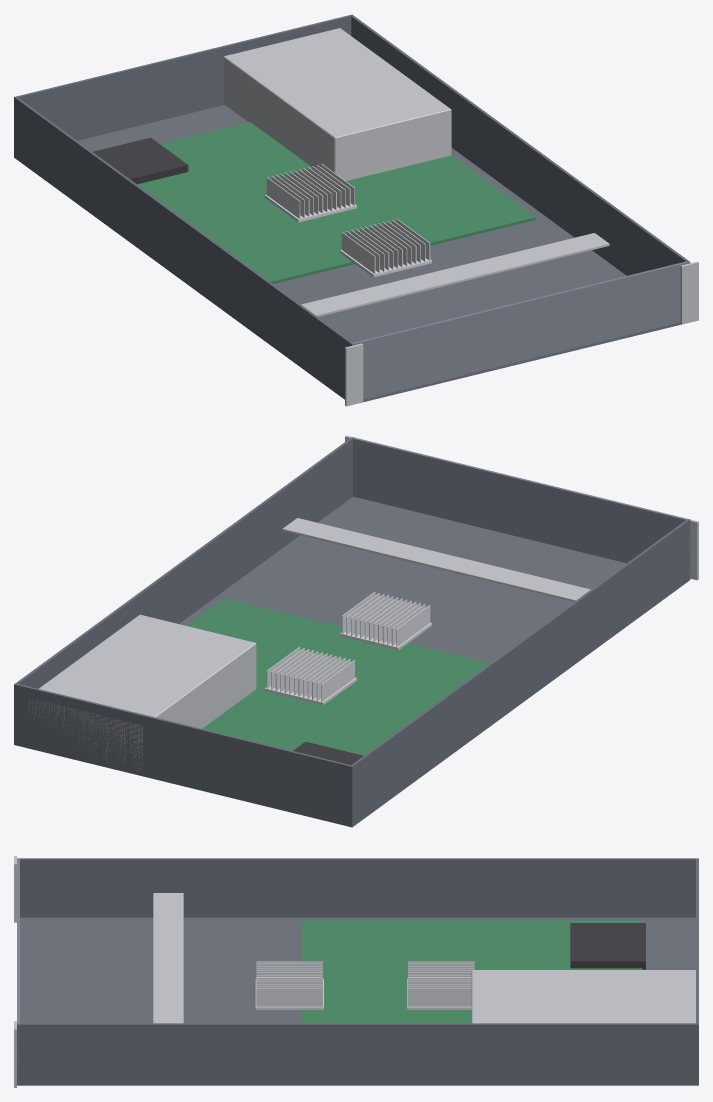
The model's file is open_srv2u.fbx.
3 renders of one model, top to bottom at view 1: azimuth 30°, elevation 25°; view 2: azimuth 150°, elevation 25°; view 3: azimuth 270°, elevation 25°, orthographic.
Visible parts, largest first — view 1: Tray, Board; view 2: Tray, Board; view 3: Tray, Board.
Boxes of the visible parts, left/top/right/bottom form: Tray: left=14, top=14, right=698, bottom=406; Board: left=93, top=122, right=536, bottom=283; Tray: left=14, top=435, right=698, bottom=827; Board: left=187, top=592, right=489, bottom=764; Tray: left=14, top=856, right=698, bottom=1087; Board: left=255, top=920, right=645, bottom=1023.
Bounding box in the file's own units: 0.542 × 0.089 × 0.904.
